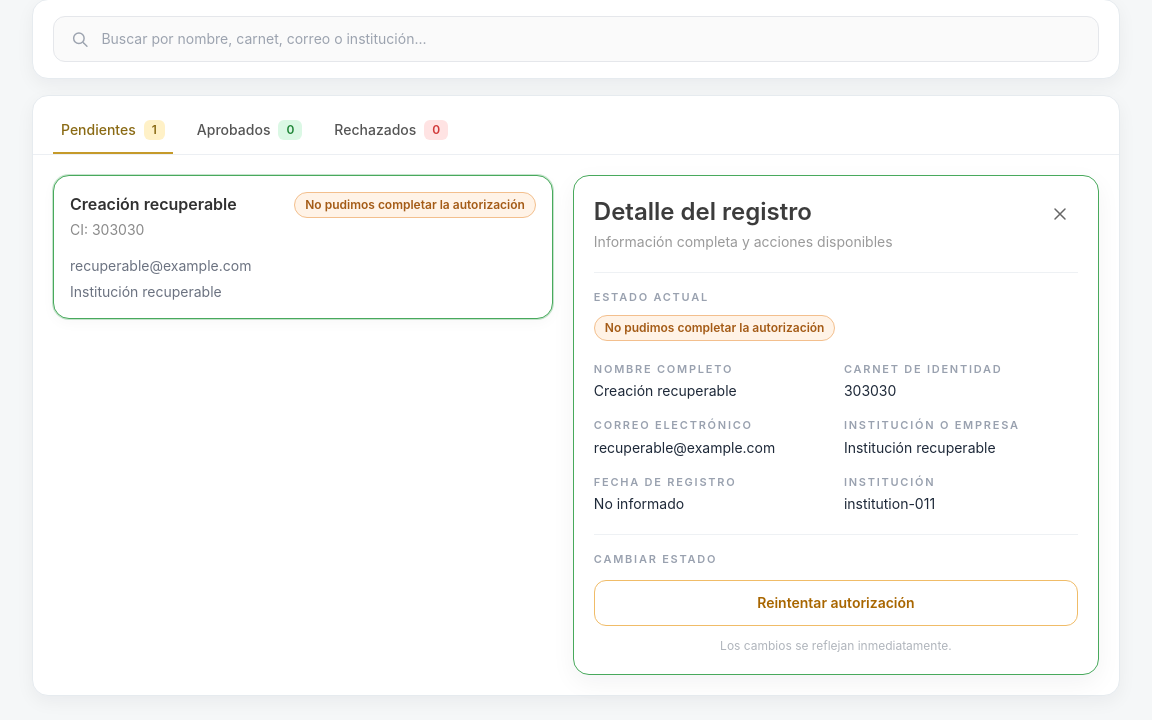
Test case: MX-02 | Gestión de instituciones, administradores y wallets | Frontend Admin | Aprobaciones › [MX-02][D-NEW-011][INTEGRACION] informa el fallo recuperable de creación y ofrece reintentar la autorización
The width and height of the screenshot is (1152, 720).
(page scrolled)
Click the button "Reintentar autorización" at (836, 602), box [594,580,1078,626]
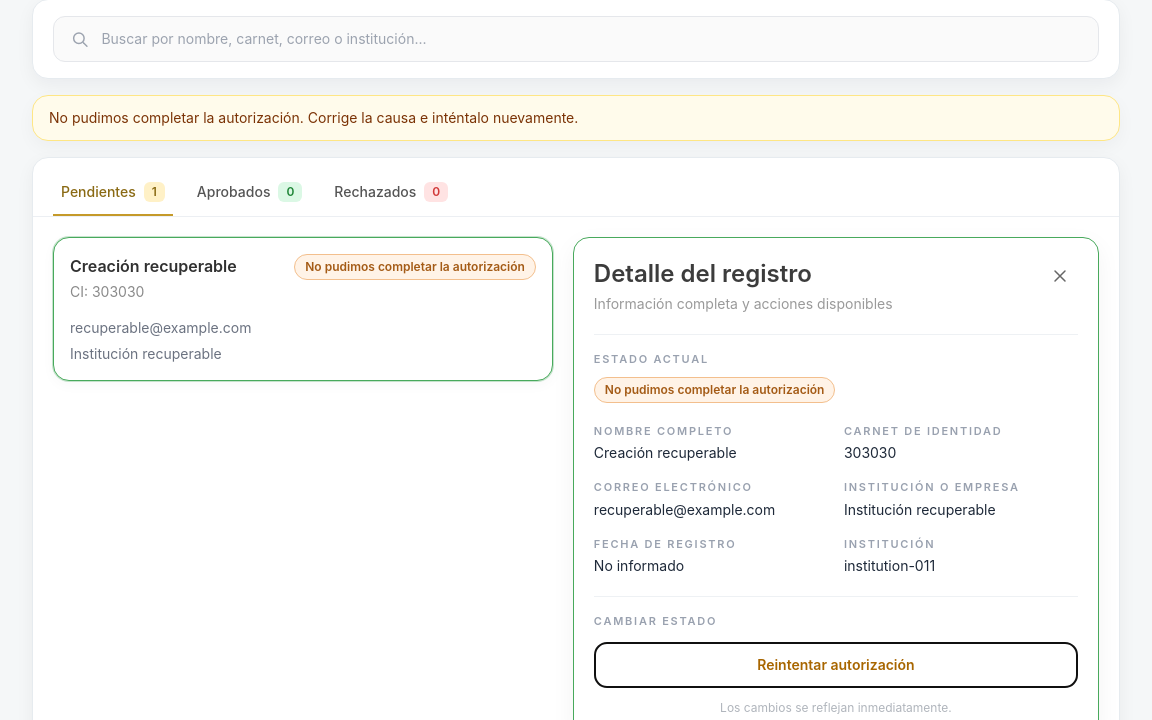
Expected: the text "No pudimos completar la autorización. Corrige la causa e inténtalo nuevamente." is shown, [32,95,1120,141]
